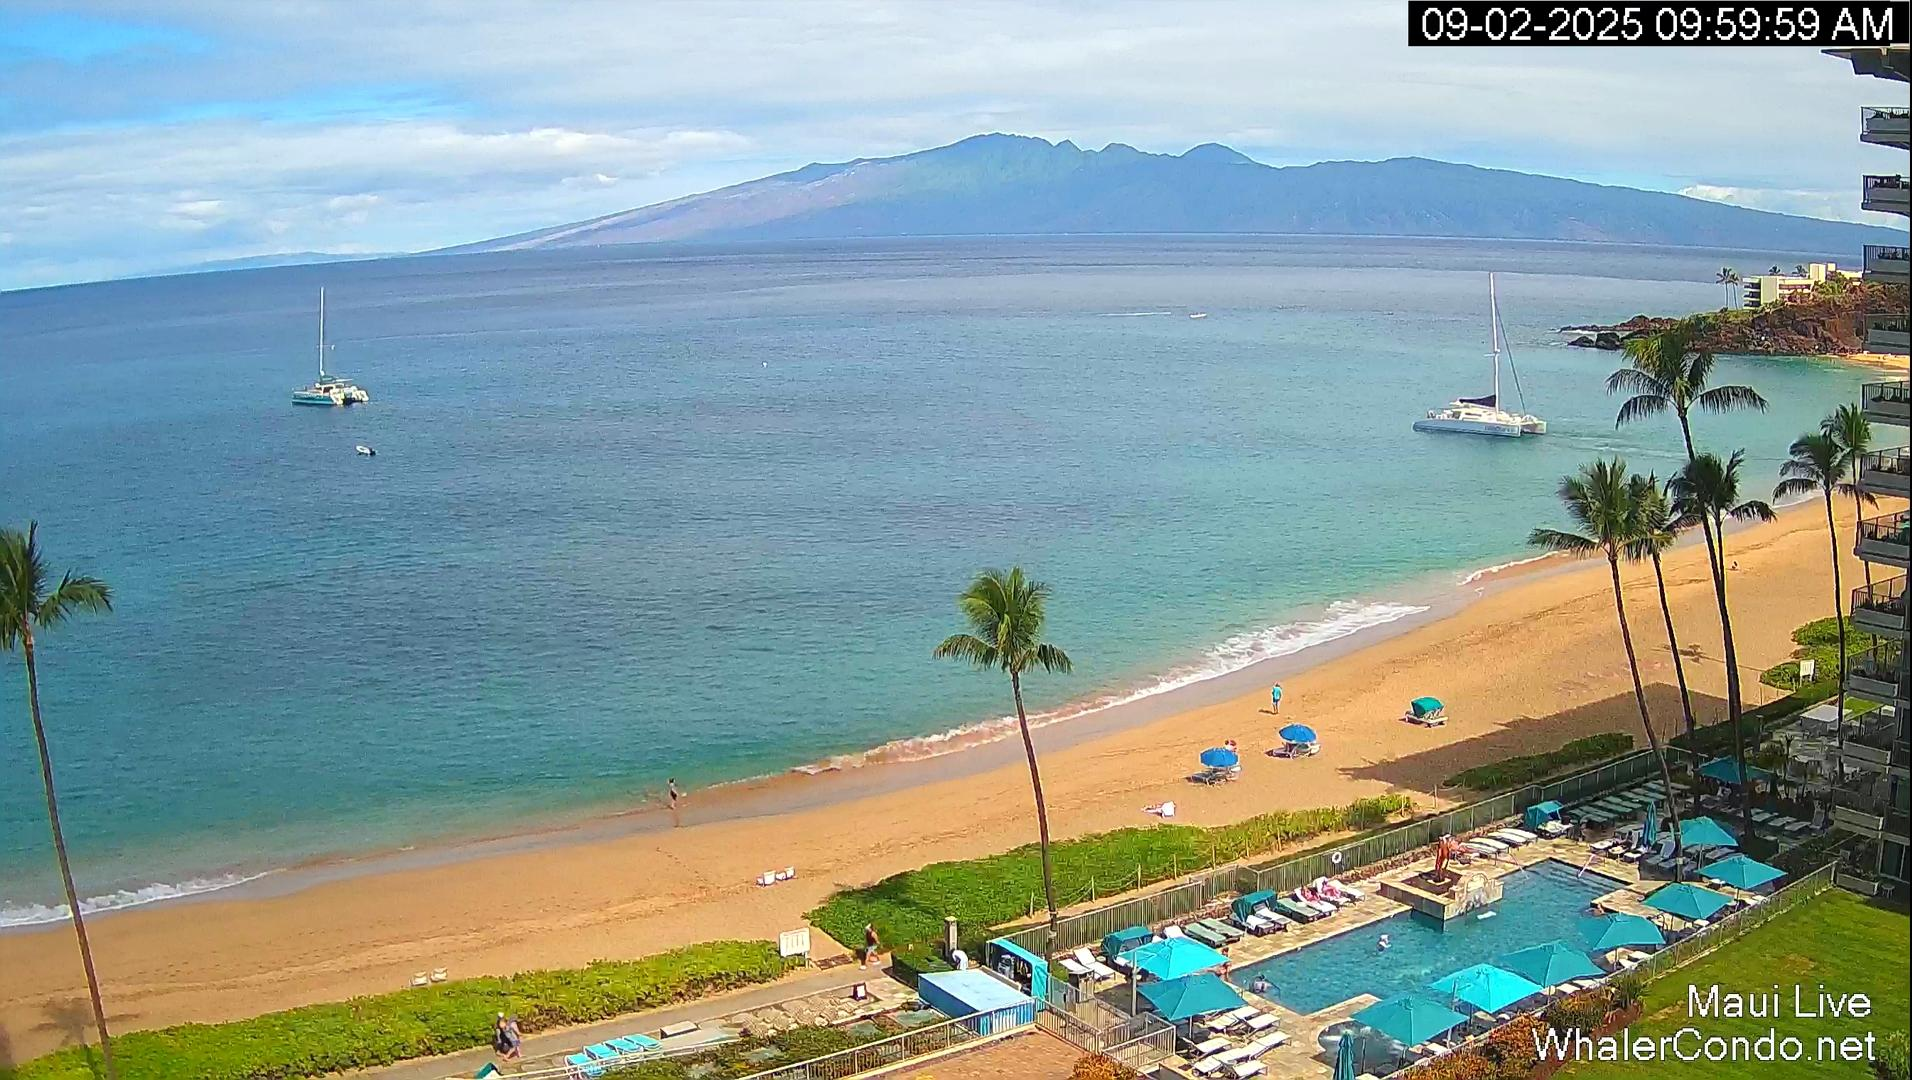boat: (1412, 272, 1547, 438), (291, 287, 370, 406), (354, 442, 375, 456), (1190, 312, 1206, 318)
person: (493, 1016, 514, 1062), (498, 1024, 523, 1062), (864, 923, 881, 966), (1321, 879, 1347, 901), (1448, 834, 1475, 855), (1302, 883, 1325, 905), (1249, 974, 1274, 993), (1586, 900, 1607, 919), (950, 948, 968, 970), (1221, 945, 1231, 981), (667, 778, 678, 810), (512, 1024, 522, 1058), (1272, 682, 1282, 714), (1374, 933, 1390, 951), (1224, 738, 1238, 754), (1727, 559, 1740, 571)
